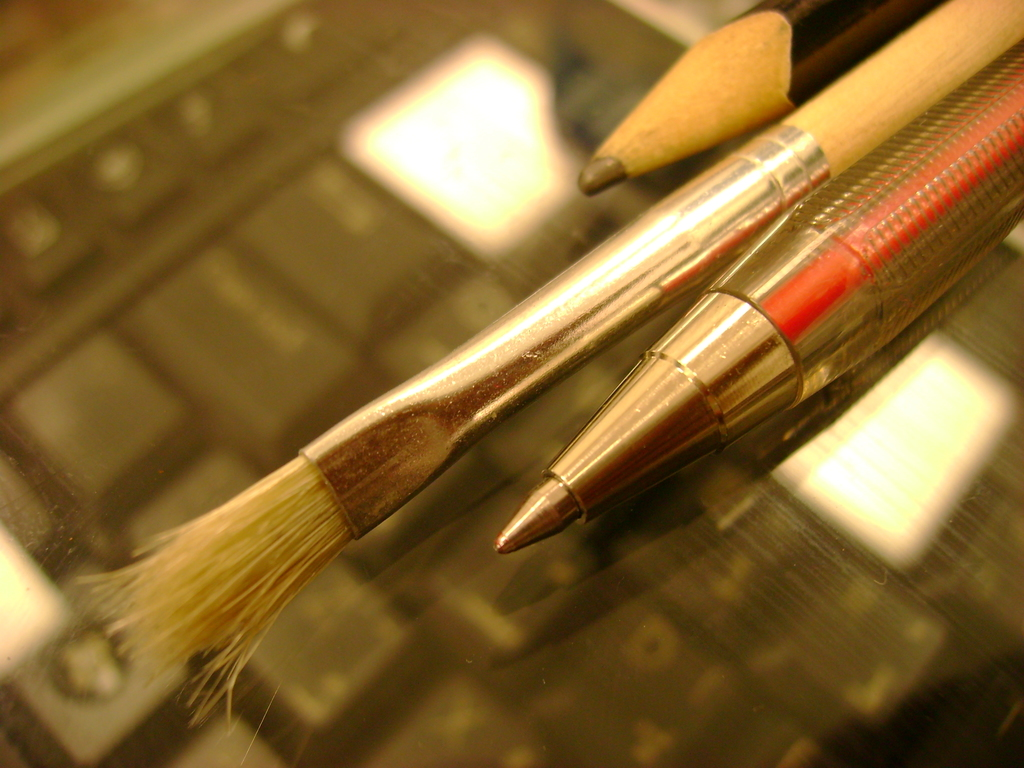Pen: (494, 41, 1023, 557)
